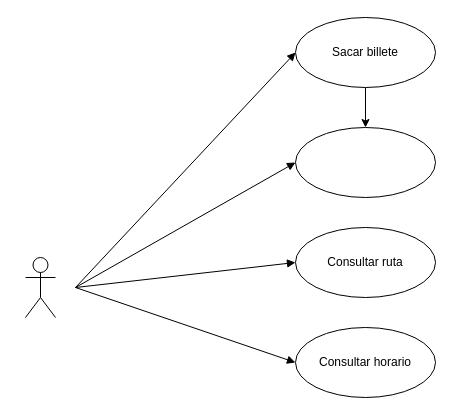
The diagram is 453 pixels wide and 415 high, and some of its shapes have lost their labels. The shapes that lost their labels are listed below. From the top down, each one's centre as x and y in pixels, then its label:
At point 365,162: "Imprimir billete".
At point 40,287: "Pasajero".
